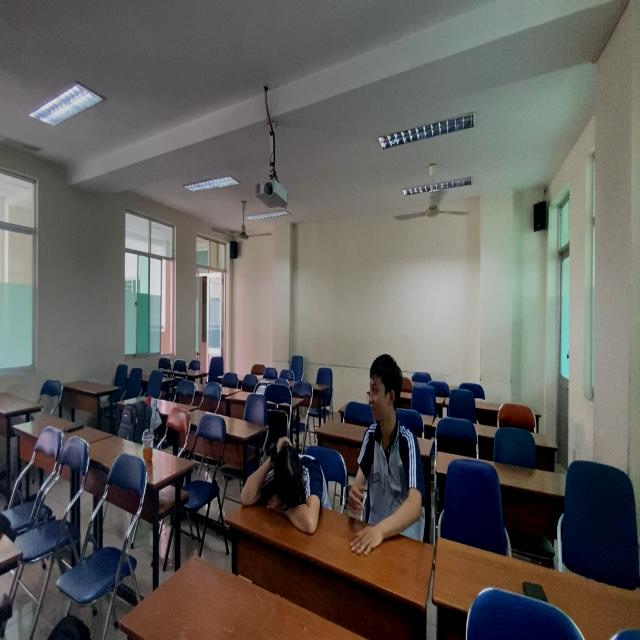sleep: (237, 433, 336, 539)
